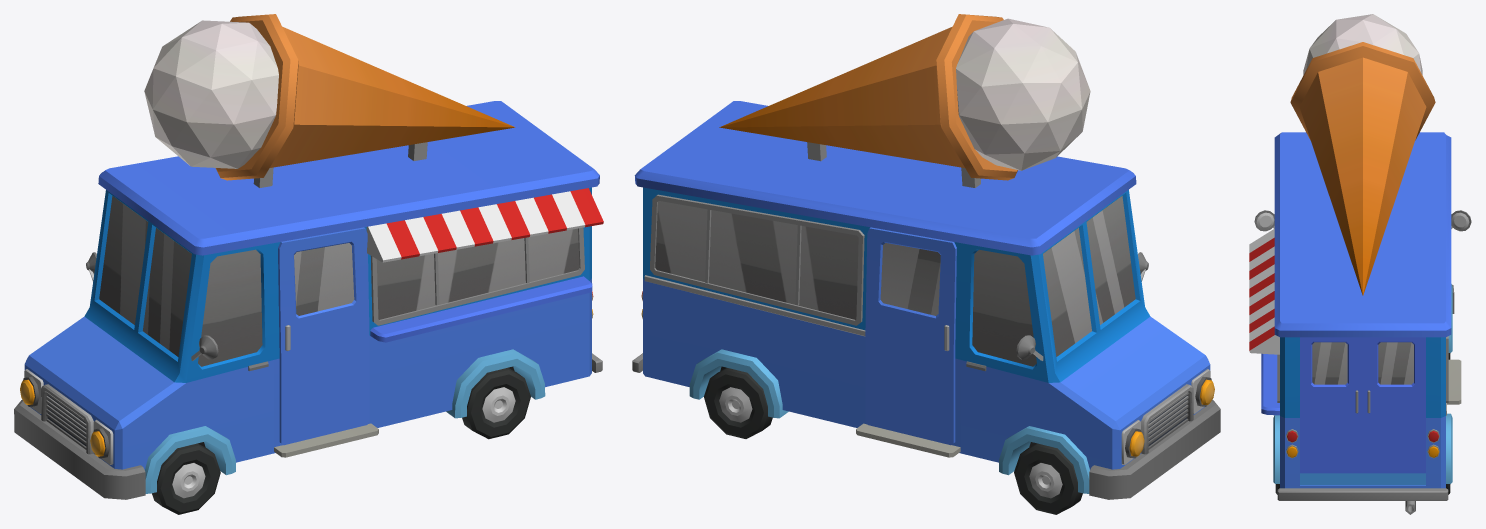
Rendered from IceTruck_2_B.fbx.
3 renders of one model, left to right at view 1: azimuth 30°, elevation 25°; view 2: azimuth 150°, elevation 25°; view 3: azimuth 270°, elevation 25°, orthographic. The views are drawn at different scales.
Parts seen in each view (by area): view 1: IceTruck_2_B, RL, FL; view 2: IceTruck_2_B, FR, RR; view 3: IceTruck_2_B.
Part boxes in pixels (x1,y1,x2,y2): IceTruck_2_B: (14, 14, 603, 499); RL: (462, 367, 530, 439); FL: (152, 443, 220, 514); IceTruck_2_B: (632, 14, 1220, 499); FR: (1014, 443, 1082, 514); RR: (704, 368, 772, 438); IceTruck_2_B: (1249, 14, 1471, 514).
Size of the model in its own units: 4.16 by 3.43 by 1.84.
